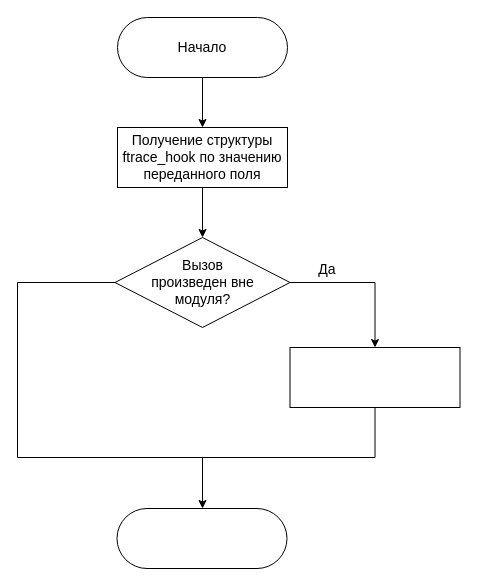
Some shapes in this 478 by 586 pixel diagram are drawn without their labels. Here are the shapes that lost their labels. From the top down, the centre of each, then its label:
[374,377]: Передача управления на обработчик функции
[201,538]: Конец
